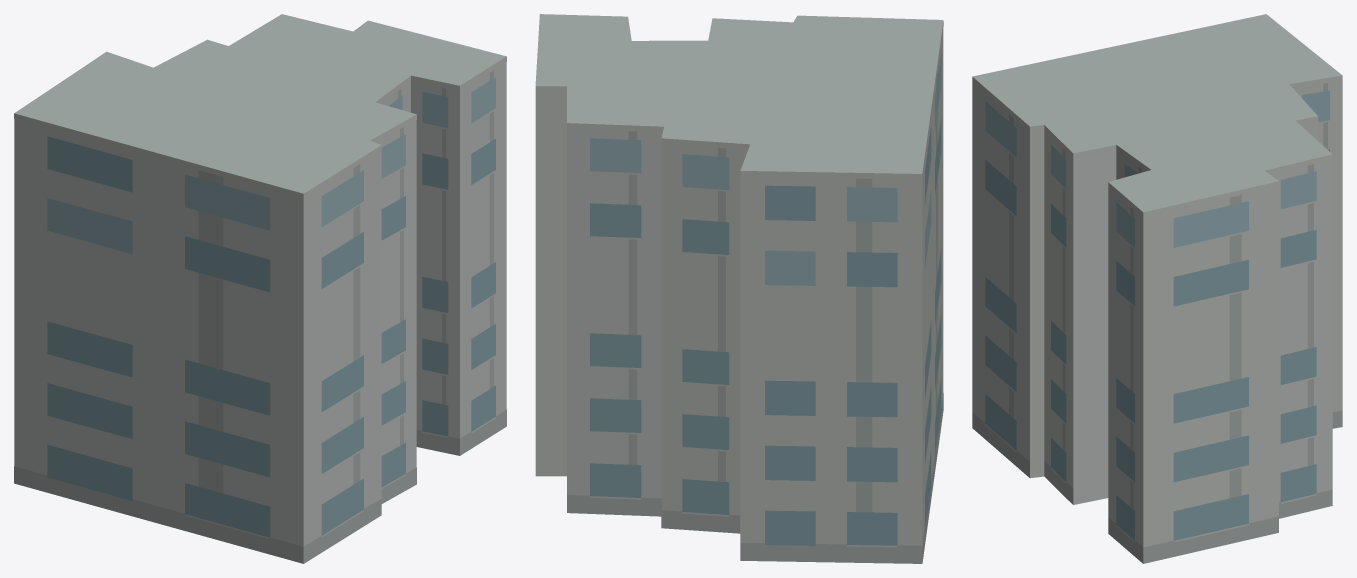
The model's file is survey-upis-32830433.glb.
The picture shows the model from 3 angles, left to right: view 1: azimuth 30°, elevation 25°; view 2: azimuth 150°, elevation 25°; view 3: azimuth 270°, elevation 25°; orthographic projection. The views are drawn at different scales.
Parts seen in each view (by area): view 1: survey-upis-32830433.tmp; view 2: survey-upis-32830433.tmp; view 3: survey-upis-32830433.tmp.
Boxes of the visible parts, <box> form: survey-upis-32830433.tmp: <box>14,14,506,563</box>; survey-upis-32830433.tmp: <box>535,14,943,563</box>; survey-upis-32830433.tmp: <box>972,14,1342,563</box>.
Bounding box in the file's own units: 19.91 × 16.45 × 15.72.
